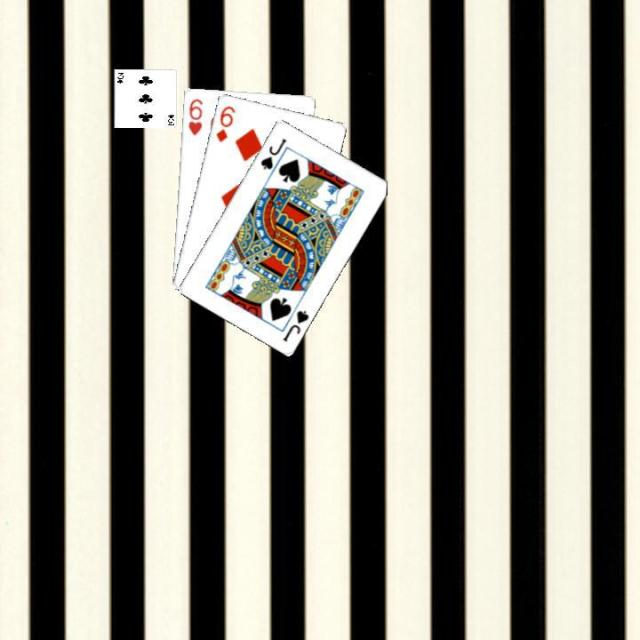6D: (212, 101, 236, 144)
6H: (184, 94, 204, 137)
JS: (278, 306, 311, 343), (256, 134, 288, 172)
